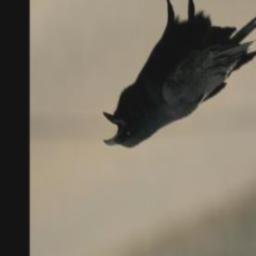Crow: (102, 0, 256, 149)
